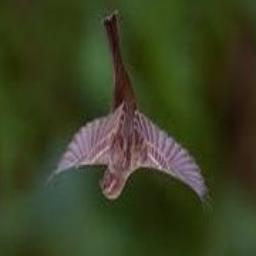Sparrow: (43, 10, 212, 213)
